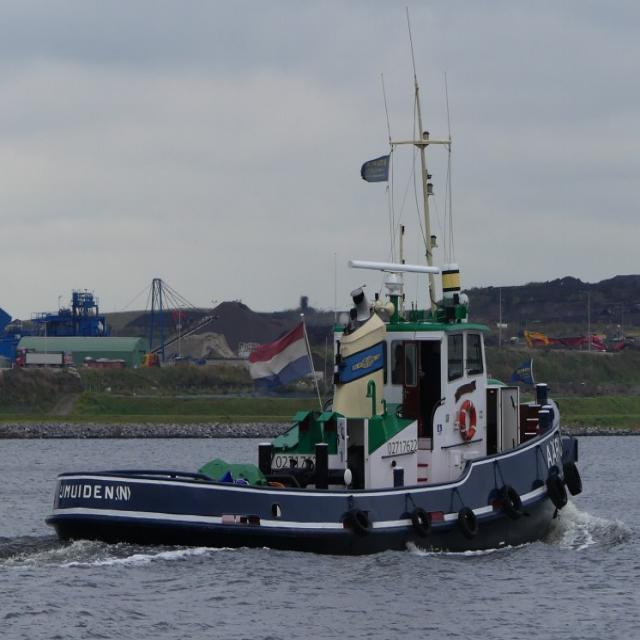tugboat: (41, 254, 589, 567)
